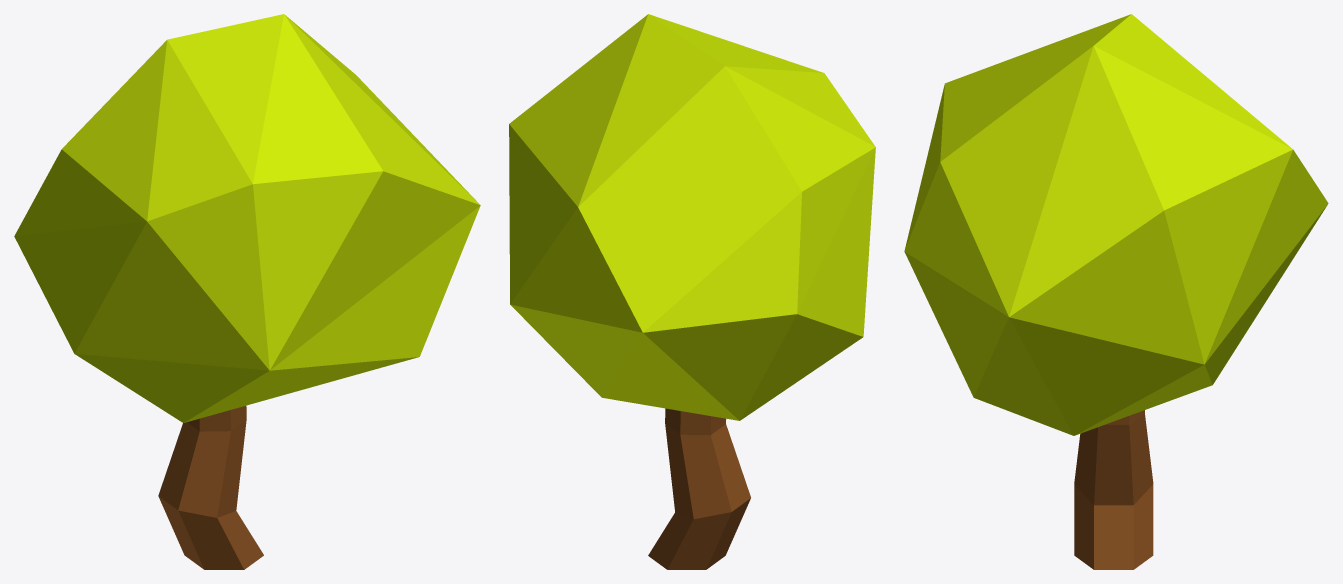
Rendered from Bush1.glb.
3 renders of one model, left to right at view 1: azimuth 30°, elevation 25°; view 2: azimuth 150°, elevation 25°; view 3: azimuth 270°, elevation 25°, orthographic. The views are drawn at different scales.
Visible parts, largest first — view 1: Bush1; view 2: Bush1; view 3: Bush1.
Part boxes in pixels (left/top/right/bottom): Bush1: left=14, top=14, right=480, bottom=569; Bush1: left=509, top=14, right=875, bottom=569; Bush1: left=904, top=14, right=1328, bottom=569.
Bounding box in the file's own units: 1.07 × 1.49 × 1.07.
